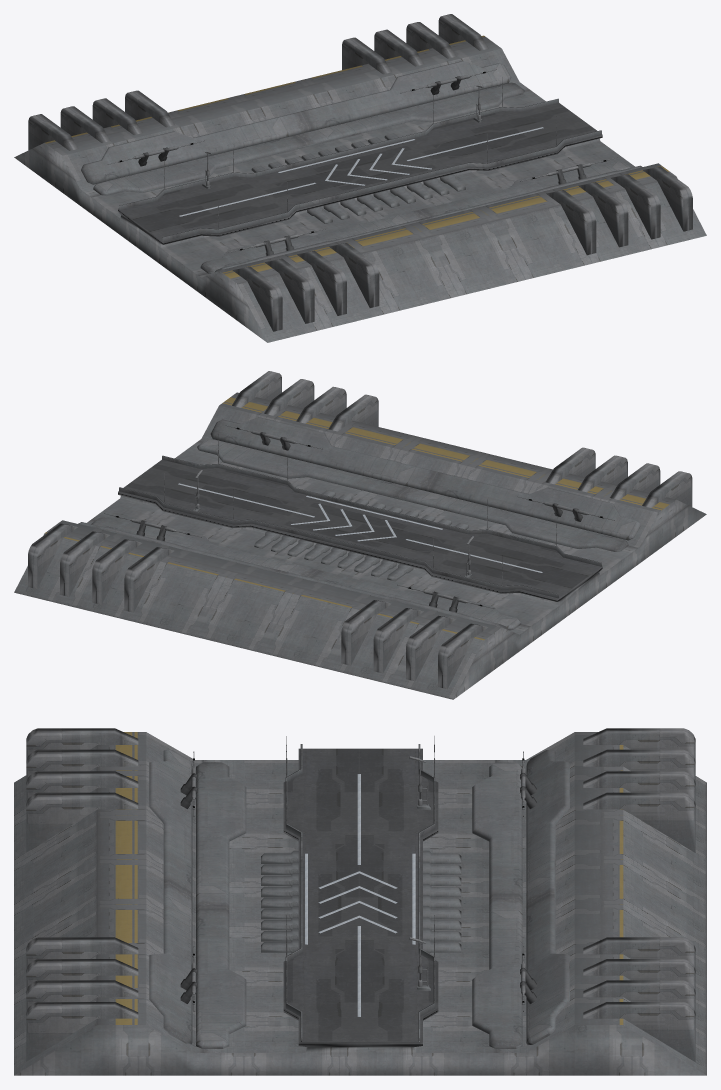
Rendered from CityBlock011.fbx.
3 views of the same model, one above another, from view 1: azimuth 30°, elevation 25°; view 2: azimuth 150°, elevation 25°; view 3: azimuth 270°, elevation 25° (orthographic). The views are drawn at different scales.
Parts seen in each view (by area): view 1: SMCGBlock51_6540.Shape; view 2: SMCGBlock51_6540.Shape; view 3: SMCGBlock51_6540.Shape.
Part boxes in pixels (left/top/right/bottom): SMCGBlock51_6540.Shape: left=14, top=14, right=706, bottom=342; SMCGBlock51_6540.Shape: left=14, top=371, right=706, bottom=699; SMCGBlock51_6540.Shape: left=14, top=728, right=706, bottom=1075.
Size of the model in its own units: 728 by 98.71 by 727.
